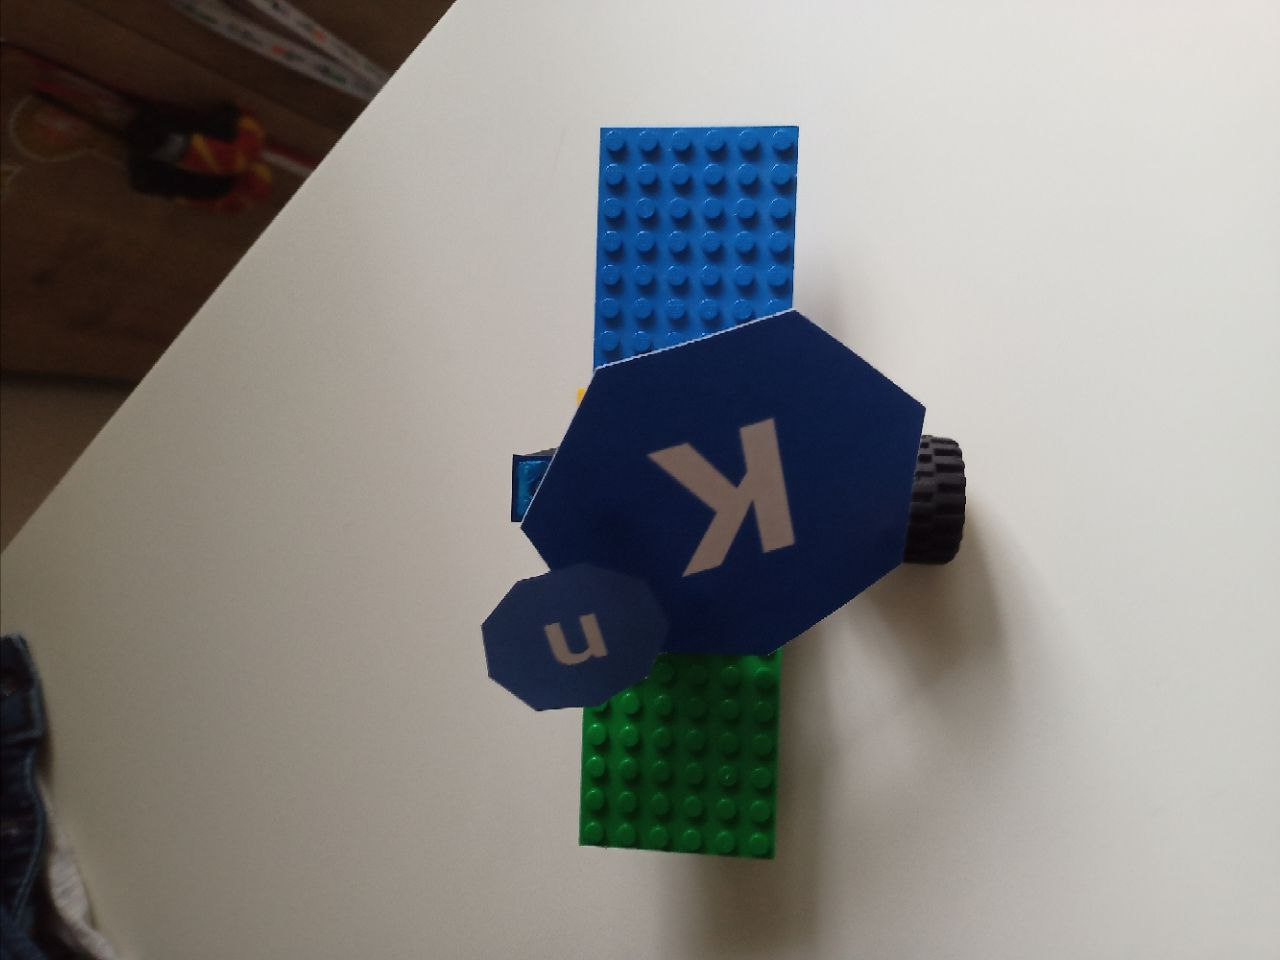knative: (477, 309, 926, 712)
